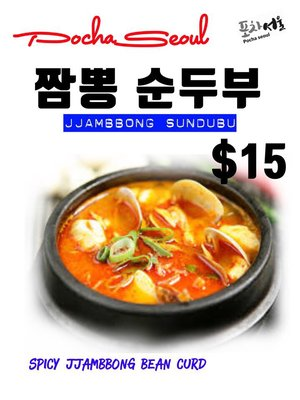sushi: (48, 175, 272, 315)
